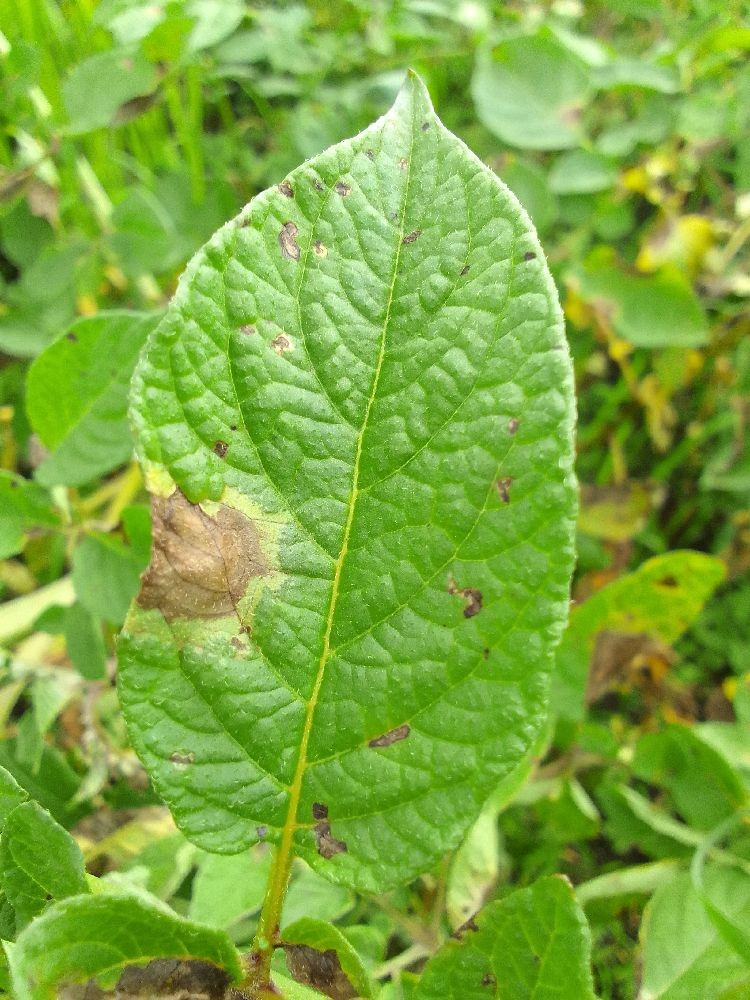late_blight: (31, 889, 394, 1000), (118, 474, 286, 638), (570, 614, 750, 750), (567, 426, 726, 563)
